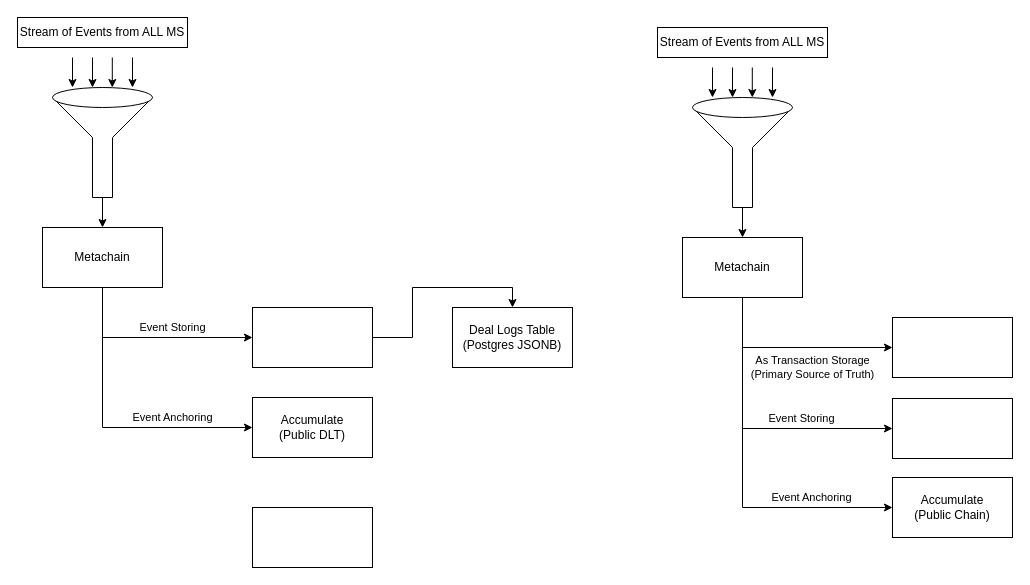
The diagram is 1030 pixels wide and 585 high, and some of its shapes have lost their labels. Here are the shapes that lost their labels. From the top down, the centre of each, then its label:
At (312,337): "Transaction Table (Event Storage for Processing)".
At (952,347): "ImmuDB or QLDB".
At (952,428): "Transaction Table (Event Storage for Operational Perpose)".
